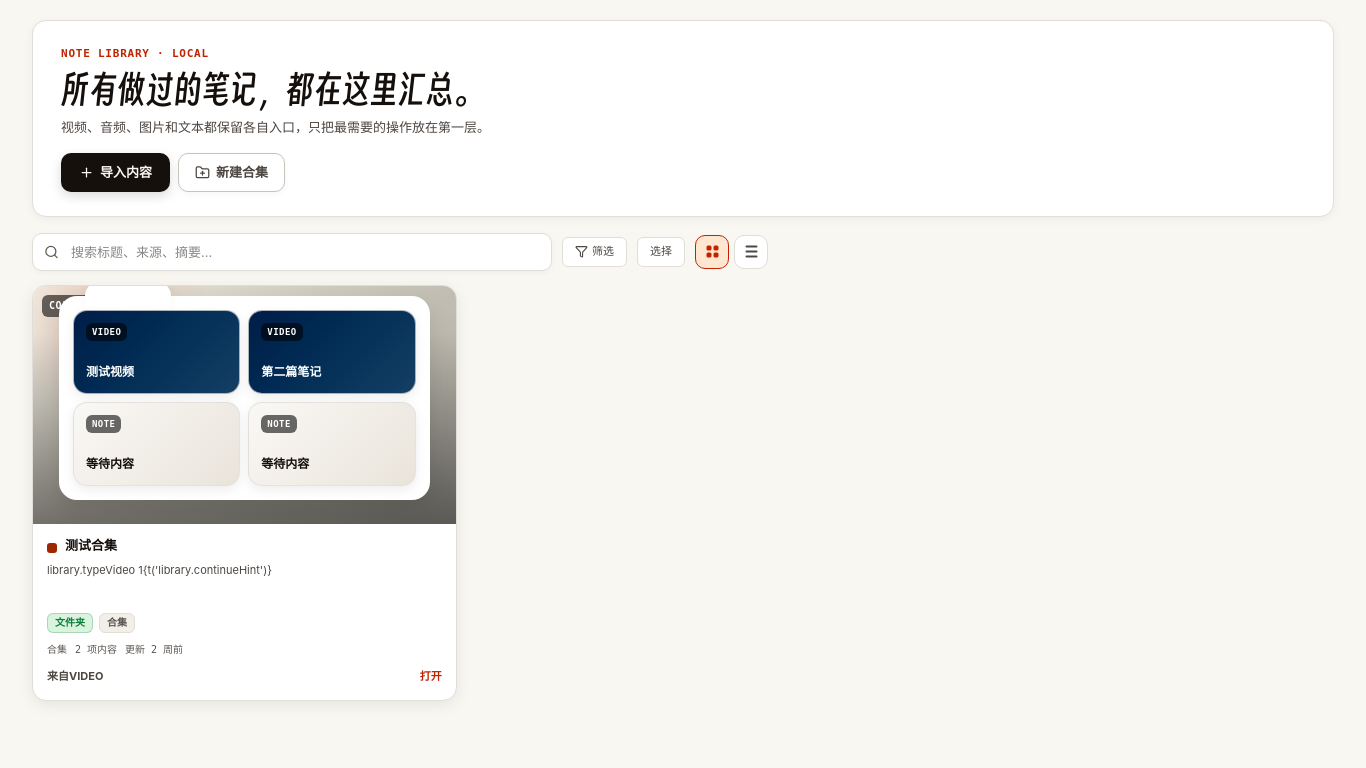
Test: LibraryPage R4-A layout › 多选操作固定在底部，并用可搜索合集选择器
Click the button "选择". click: coordinates (661, 252)
box: [637,237,685,267]
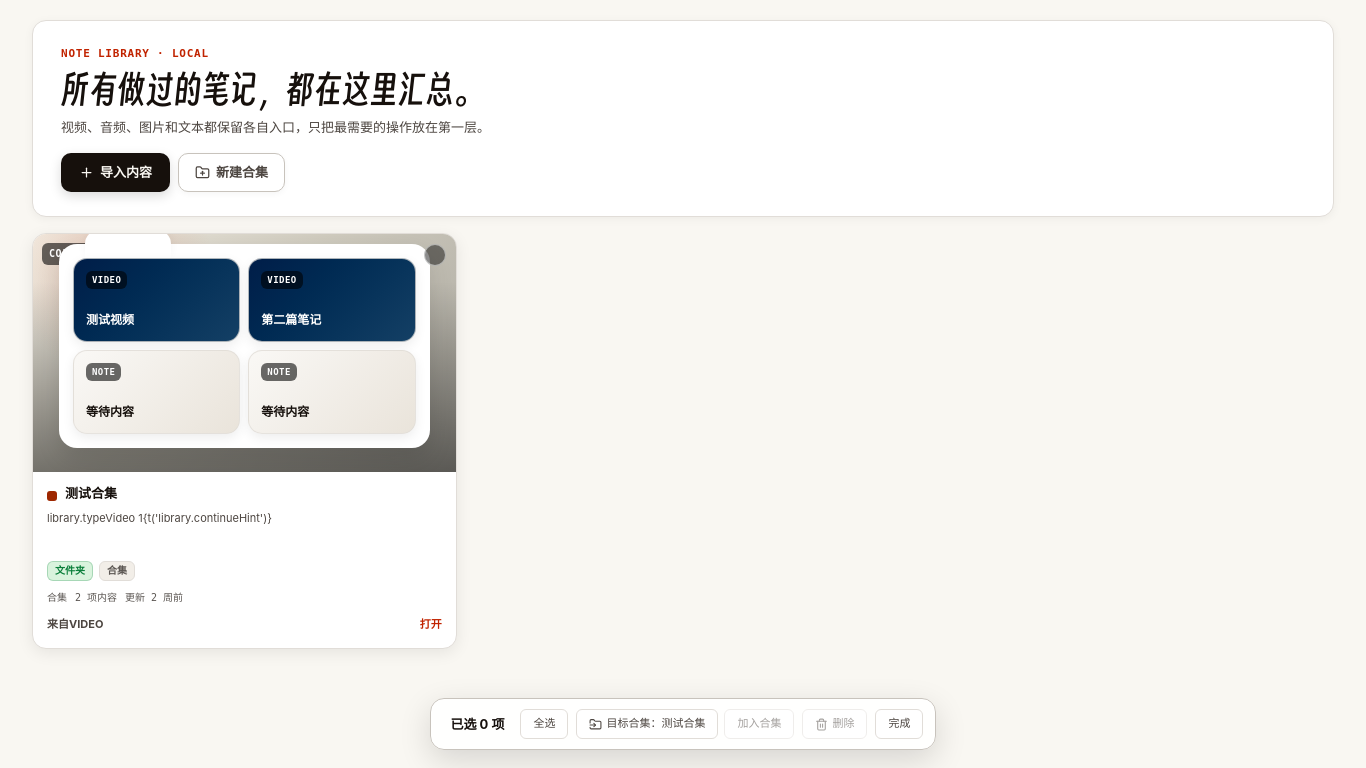
expect the element with class "lib-selection-dock" is shown: met, box [430,698,936,750]
Click the button "目标合集：测试合集". click: coordinates (648, 724)
box: [576,709,718,739]
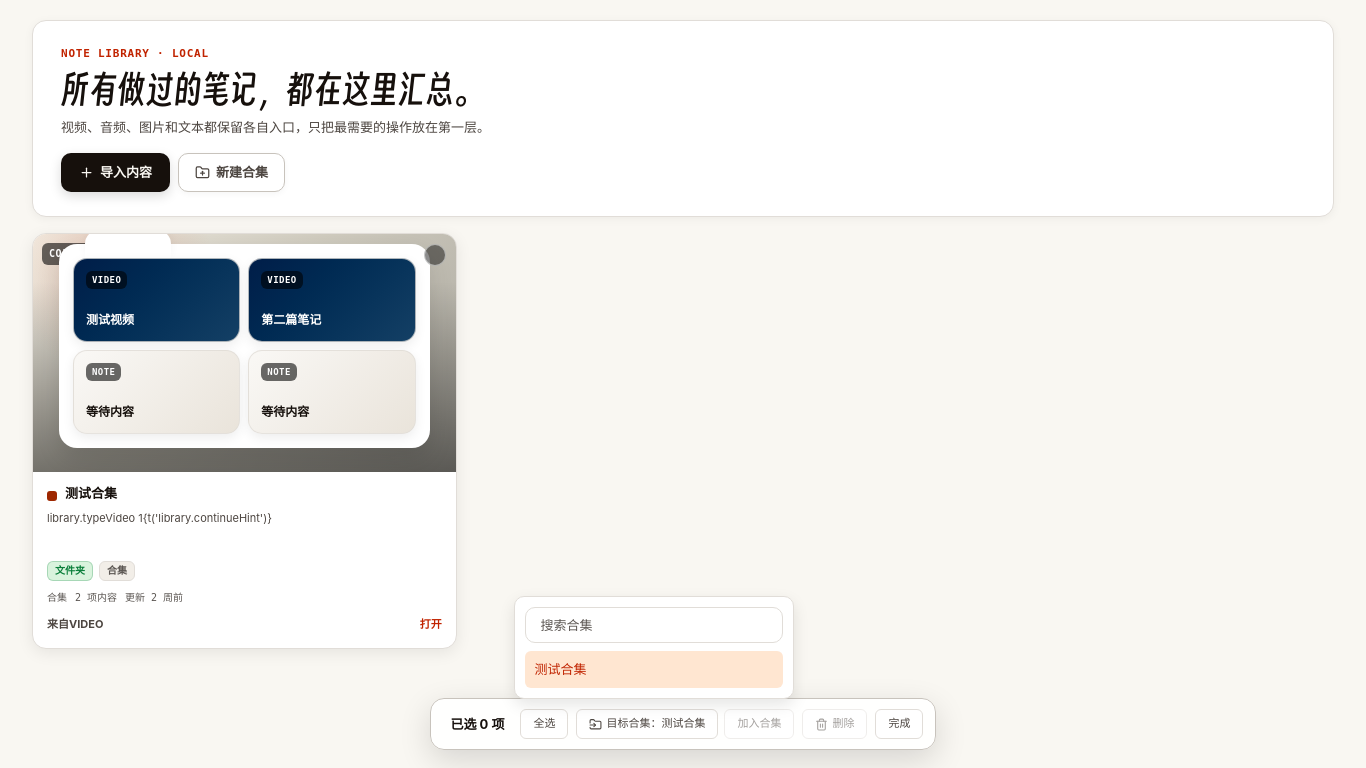
expect the field labelled "搜索合集" is shown: met, box [526,607,784,643]
expect the button "测试合集" is shown: met, box [526,651,784,688]
